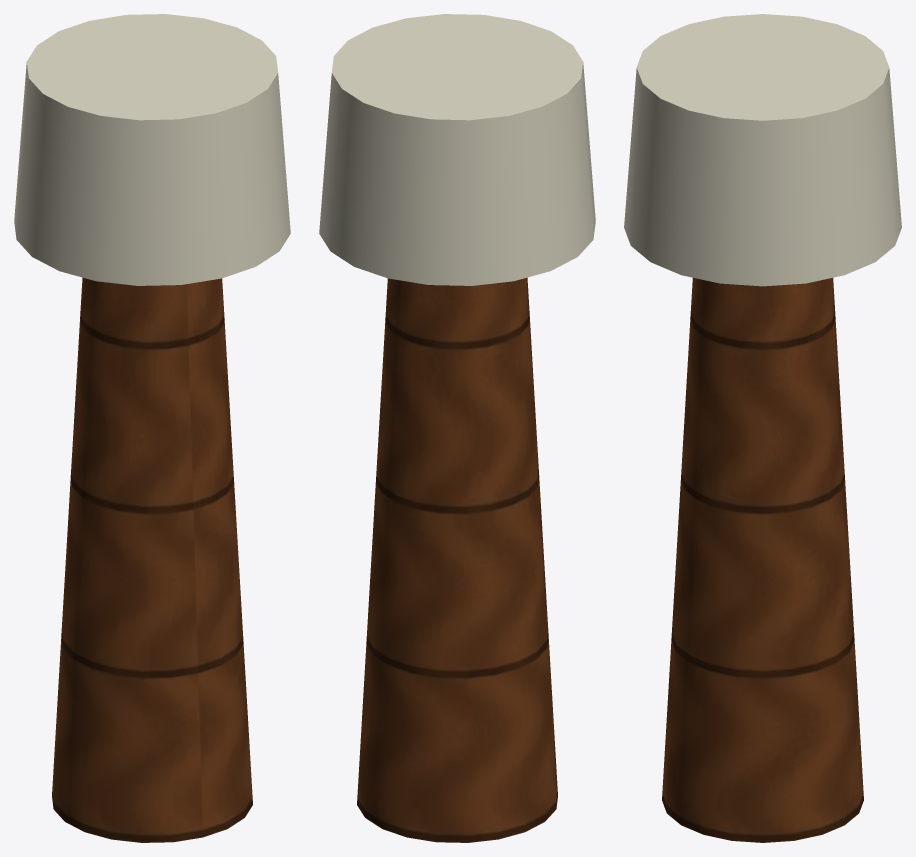
File: primitive-crafting-workshop-knapping-billet-367d0245__21539.glb
3 views of the same model, side by side, from view 1: azimuth 30°, elevation 25°; view 2: azimuth 150°, elevation 25°; view 3: azimuth 270°, elevation 25° (orthographic).
Parts seen in each view (by area): view 1: knapping-billet; view 2: knapping-billet; view 3: knapping-billet.
Part boxes in pixels (x1,y1,x2,y2): knapping-billet: [14, 14, 290, 842]; knapping-billet: [319, 14, 595, 842]; knapping-billet: [624, 14, 901, 842].
Bounding box in the file's own units: 0.11 × 0.32 × 0.11.
2 materials, 1 textured.
